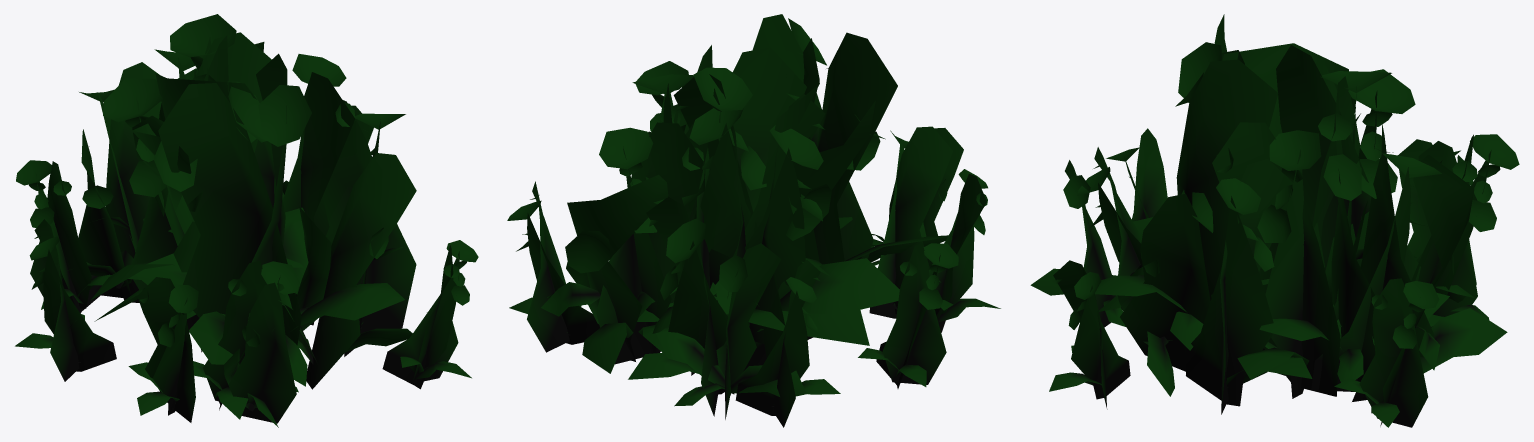
File: FlowersDlionGCATA_H.fbx
3 renders of one model, left to right at view 1: azimuth 30°, elevation 25°; view 2: azimuth 150°, elevation 25°; view 3: azimuth 270°, elevation 25°, orthographic.
Visible parts, largest first — view 1: FDGCATAH_LOD0; view 2: FDGCATAH_LOD0; view 3: FDGCATAH_LOD0.
Boxes of the visible parts, x1,y1,x2,y2 form: FDGCATAH_LOD0: (15,14,478,427); FDGCATAH_LOD0: (507,14,1000,427); FDGCATAH_LOD0: (1030,14,1519,427).
Size of what is drawn, in the model's own units: 0.7308 by 0.5424 by 0.7676.
